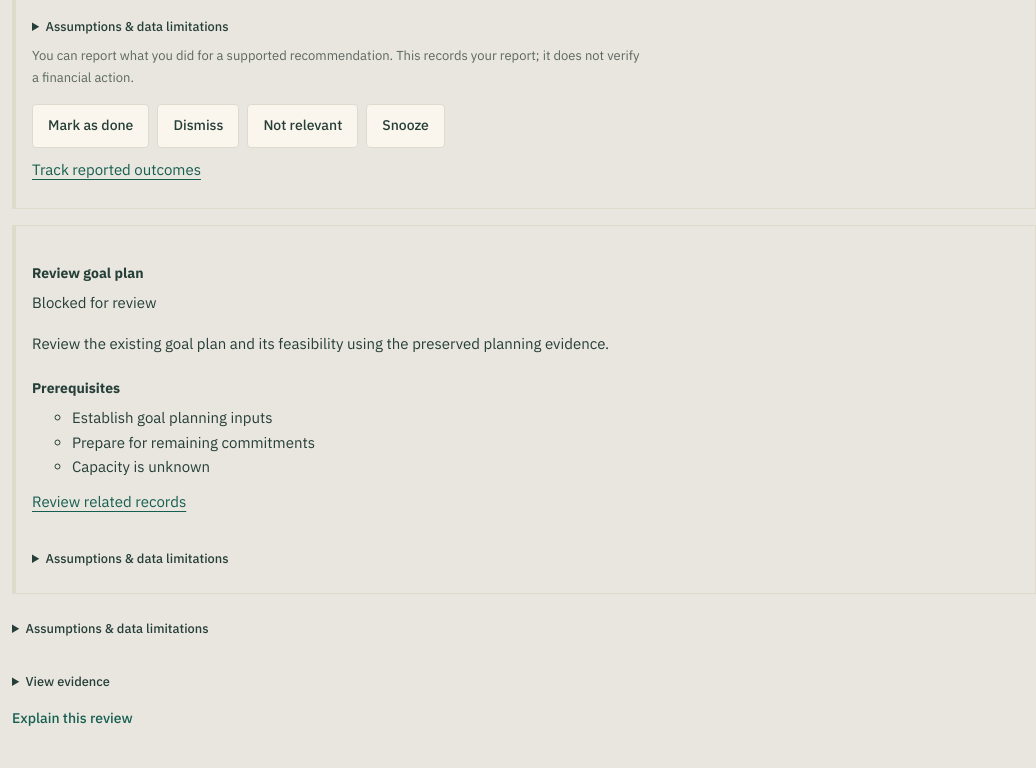
Test: checks canonical context before showing explanation (changed=true)
(page scrolled)
Step 1. Click the button "Explain this review" → (72, 718), box [12, 700, 133, 736]
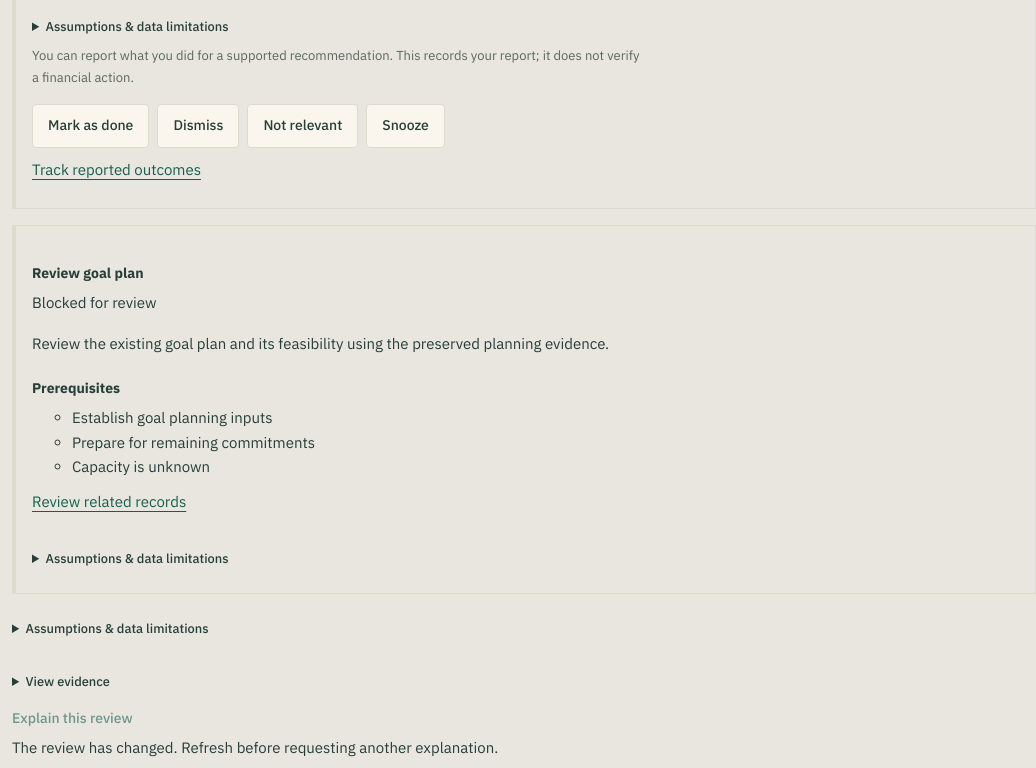
Expected: the text "The review has changed. Refresh before requesting another explanation." is shown, [12, 738, 498, 758]
